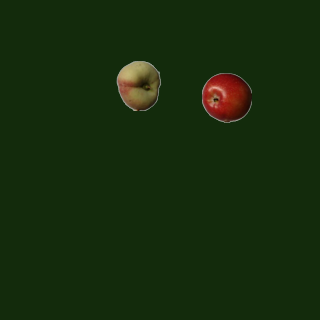Apple Braeburn: (201, 72, 251, 122)
Peach Flat: (113, 60, 163, 110)
